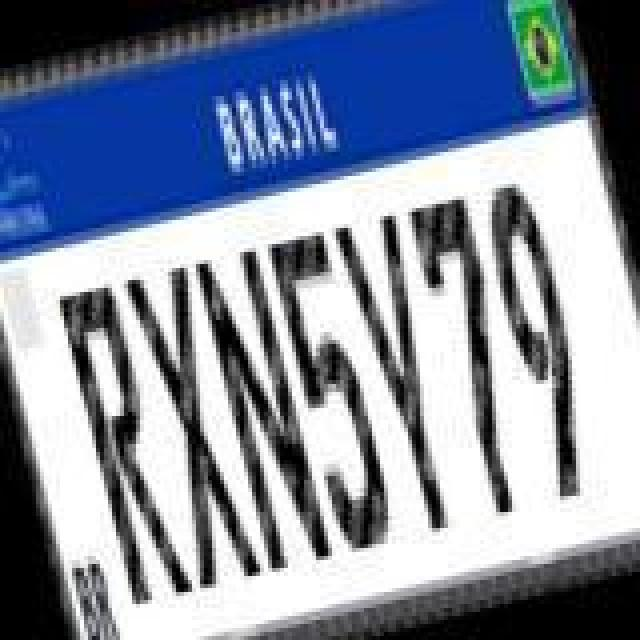5: (264, 228, 400, 556)
7: (402, 190, 542, 522)
9: (474, 172, 614, 508)
N: (192, 242, 336, 574)
R: (58, 278, 198, 610)
X: (120, 256, 264, 592)
Y: (328, 210, 472, 542)
